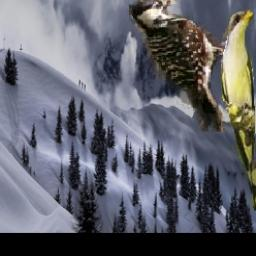Cuckoo: (221, 9, 256, 211)
Woodpecker: (129, 0, 243, 132)
